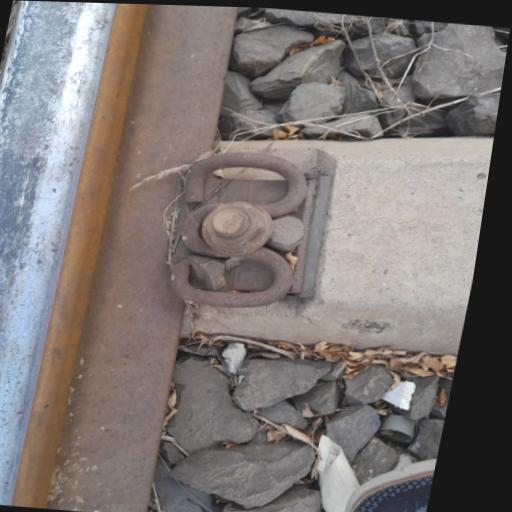bolt: (180, 185, 277, 261)
clip: (130, 139, 326, 324)
rail: (0, 52, 134, 493)
